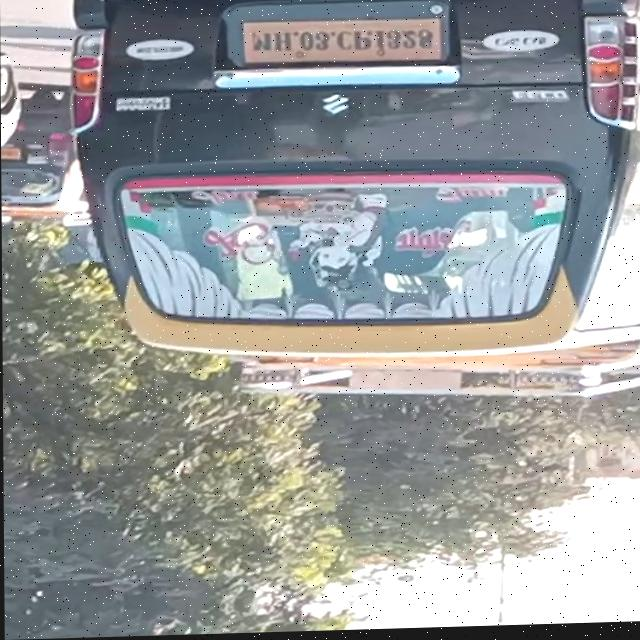plate: (241, 17, 446, 71)
